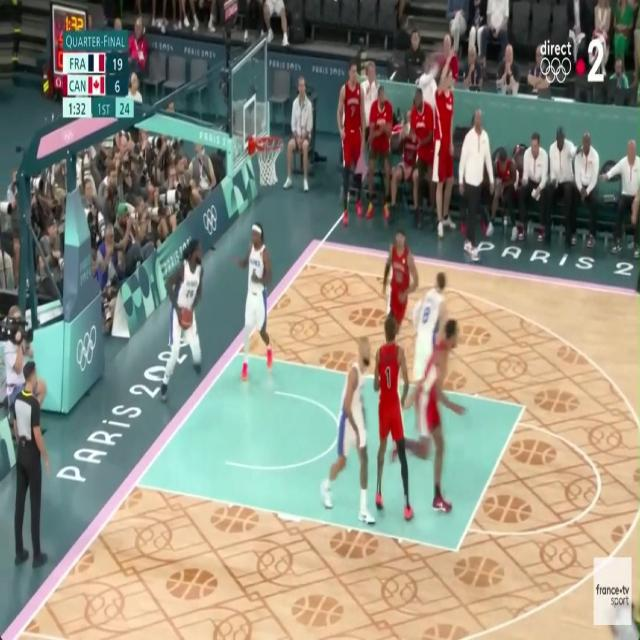ball_handler: (164, 238, 208, 395)
